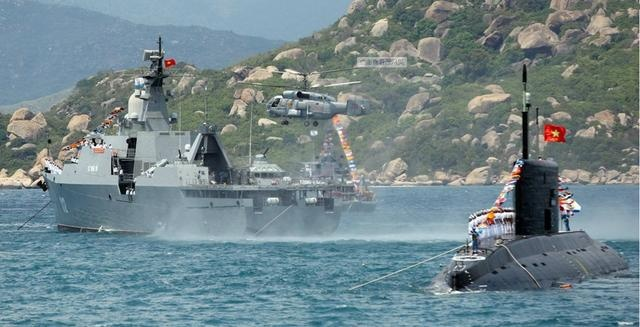airplane: (227, 56, 390, 122)
warship: (36, 37, 367, 246)
